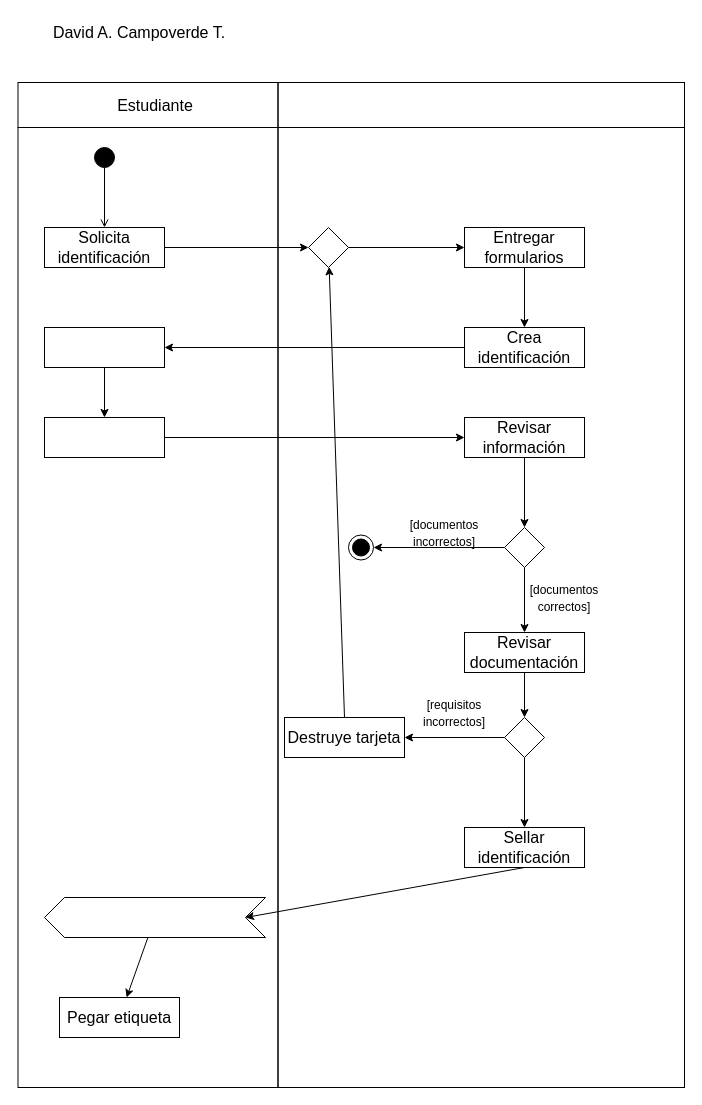
Some shapes in this 702 by 1105 pixel diagram are drawn without their labels. Each missing label, with the centre of its shape:
Empleado: pixel 480 105
Llenar datos personales: pixel 104 437
Llenar formularios: pixel 104 347
Recibir etiqueta semestre: pixel 155 917
